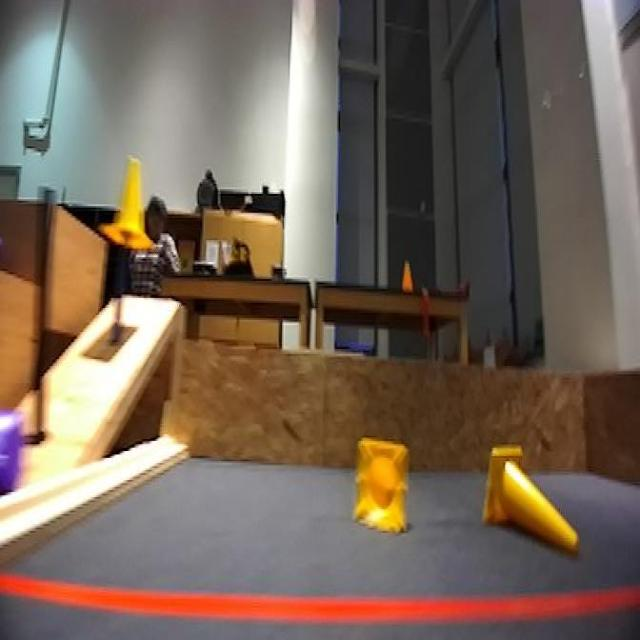frc_cone: (480, 434, 591, 557), (352, 436, 412, 529), (107, 155, 159, 255)
frc_cube: (0, 401, 30, 517)
